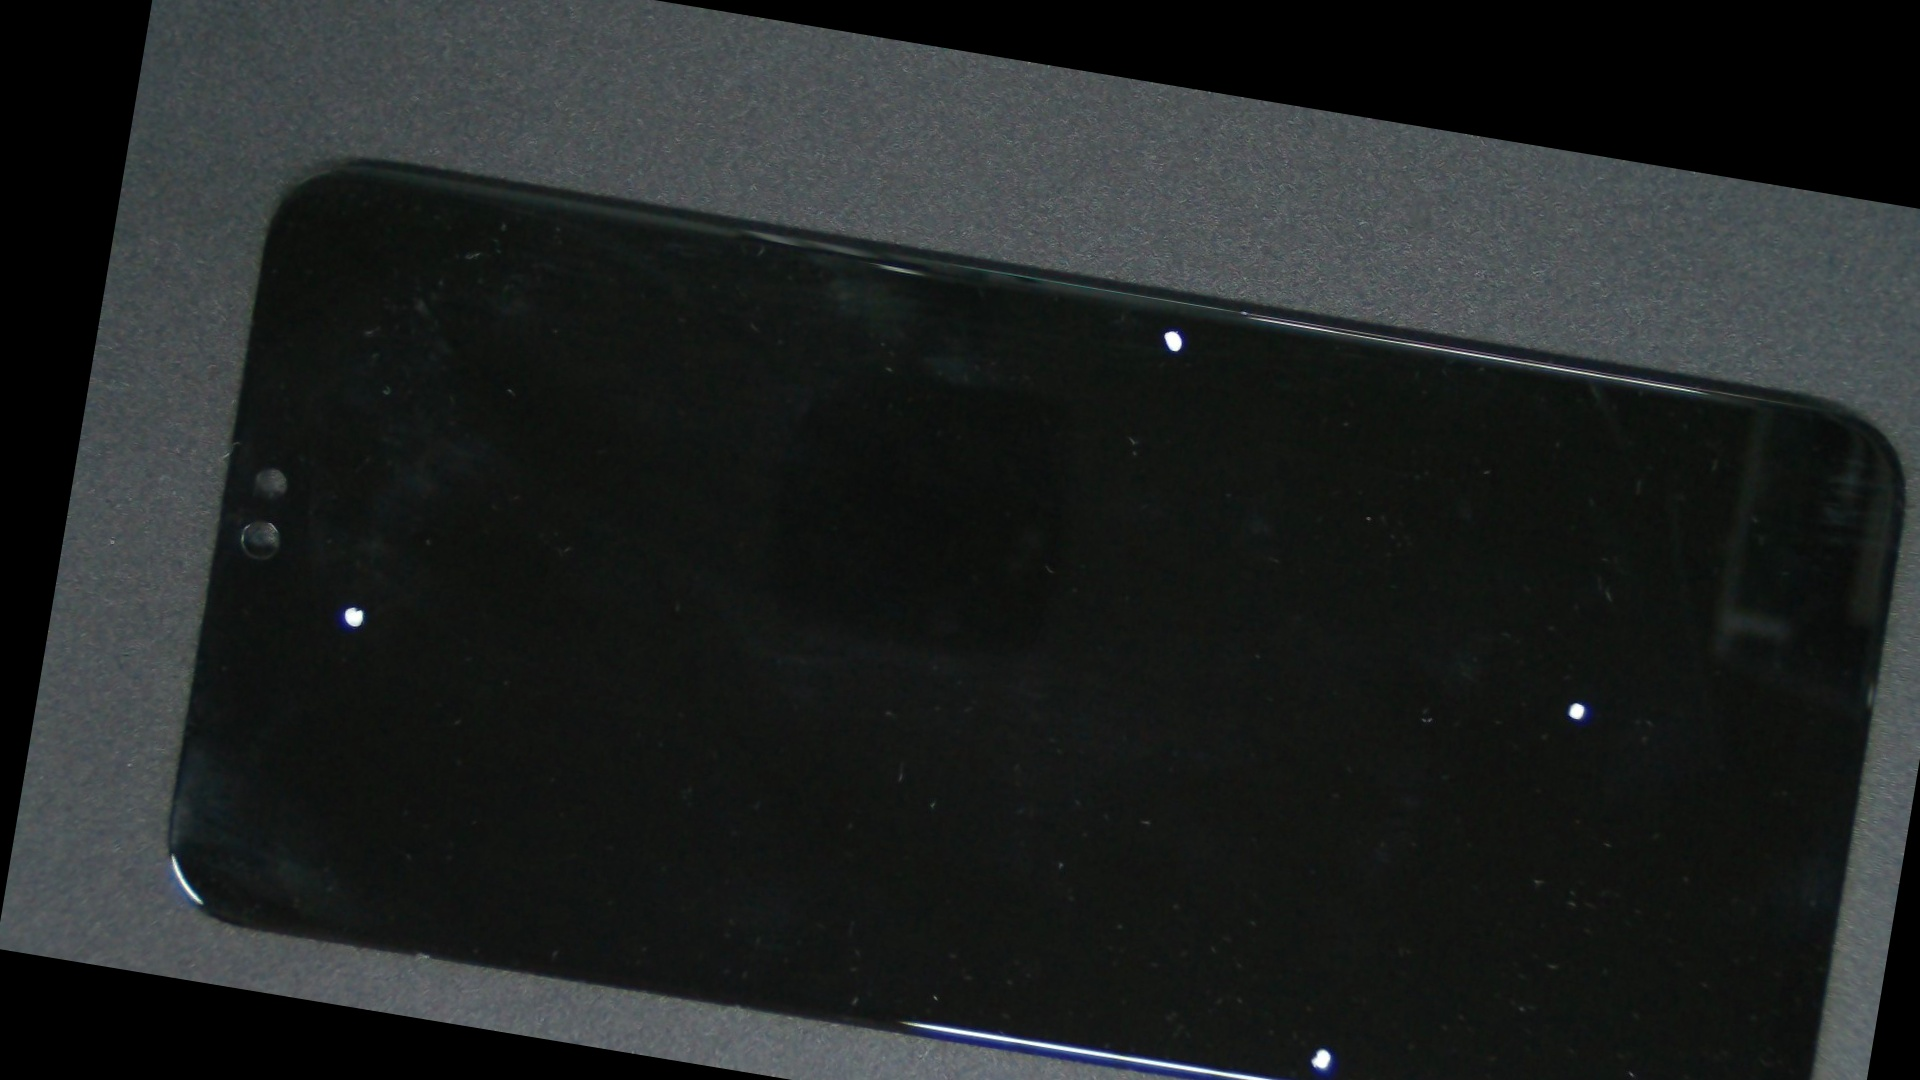oil: (783, 310, 1920, 1026), (650, 483, 1920, 1080), (632, 124, 1718, 535), (156, 262, 555, 949)
